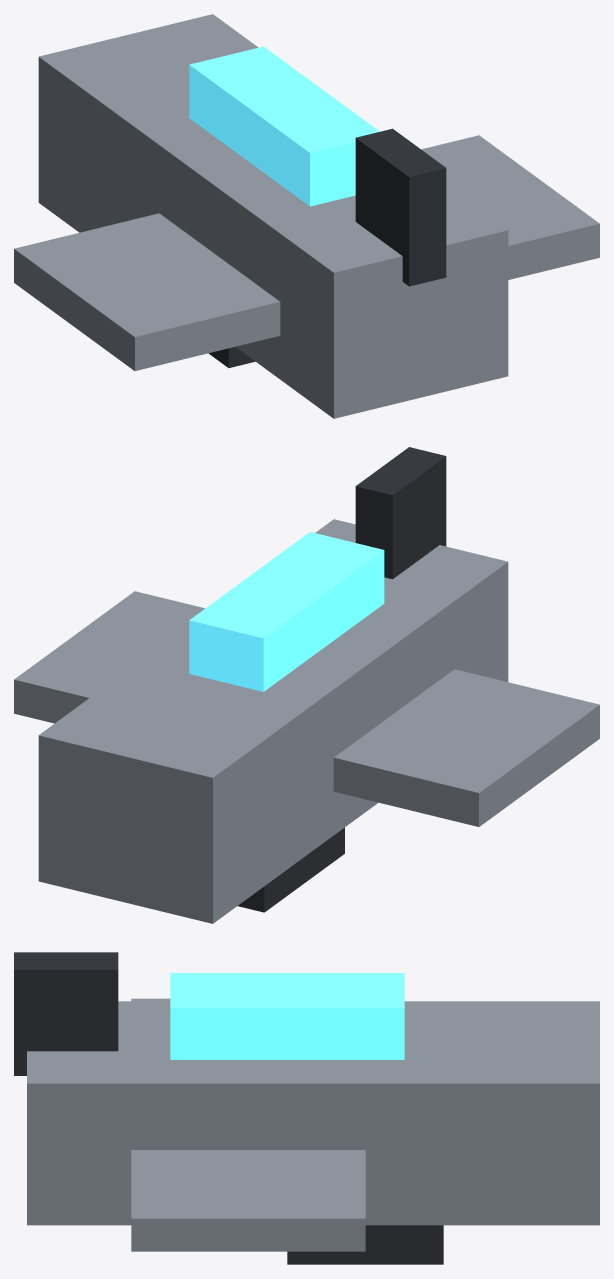
Rendered from troyden_strike_bomber.glb.
3 views of the same model, one above another, from view 1: azimuth 30°, elevation 25°; view 2: azimuth 150°, elevation 25°; view 3: azimuth 270°, elevation 25° (orthographic). The views are drawn at different scales.
Parts seen in each view (by area): view 1: hull; view 2: hull; view 3: hull.
Boxes of the visible parts, box(x1,y1,x2,y2) form: hull: box(14, 14, 599, 418); hull: box(14, 447, 599, 923); hull: box(14, 952, 599, 1264).
Size of the model in its own units: 10.4 by 6.08 by 11.7.
